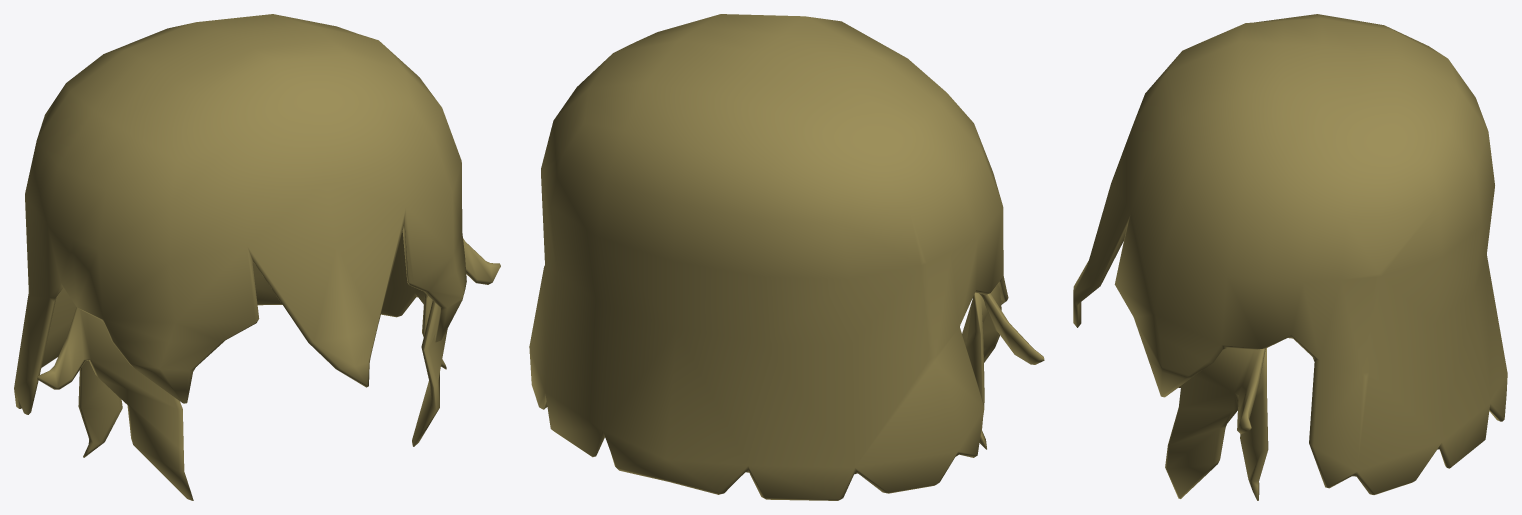
The model's file is Fumo_Blonde.gltf.
3 views of the same model, side by side, from view 1: azimuth 30°, elevation 25°; view 2: azimuth 150°, elevation 25°; view 3: azimuth 270°, elevation 25° (orthographic). The views are drawn at different scales.
Visible parts, largest first — view 1: Fumo_Blonde; view 2: Fumo_Blonde; view 3: Fumo_Blonde.
Boxes of the visible parts, <box> form: Fumo_Blonde: <box>14,14,500,500</box>; Fumo_Blonde: <box>529,14,1044,500</box>; Fumo_Blonde: <box>1073,14,1507,500</box>.
Size of the model in its own units: 1.18 by 0.9524 by 0.9326.
